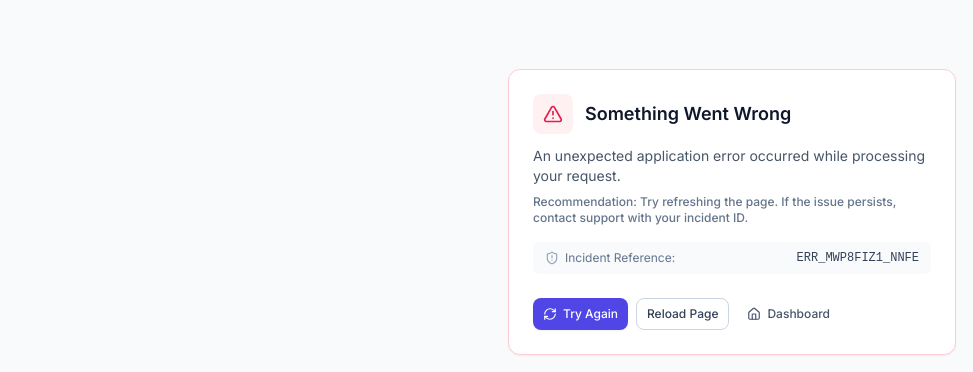
Enterprise Global Error Boundary (GlobalErrorBoundary) › resets error state when clicking Try Again
The width and height of the screenshot is (973, 372).
Expected: the heading "Something Went Wrong" is shown, [585,100,791,128]
Trigger reset
What coordinates should you click on to do the following:
click the button "Try Again"
I would click on:
 (580, 314)
Its box is [533,298,628,330].
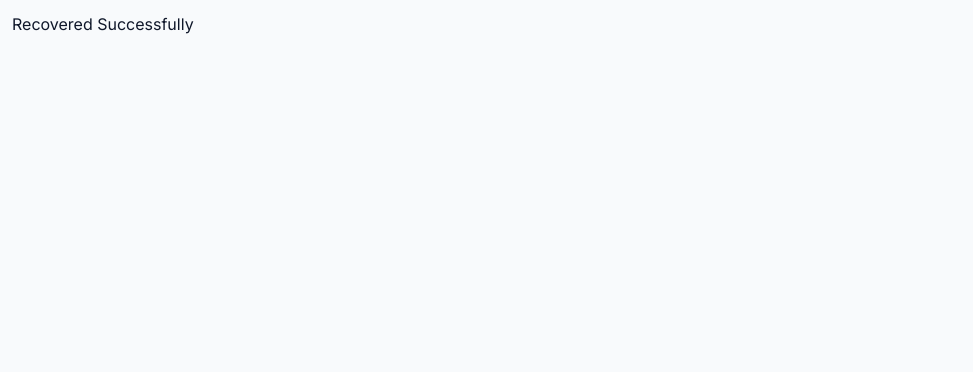
Expected: the text "Recovered Successfully" is shown, [12,14,194,34]
